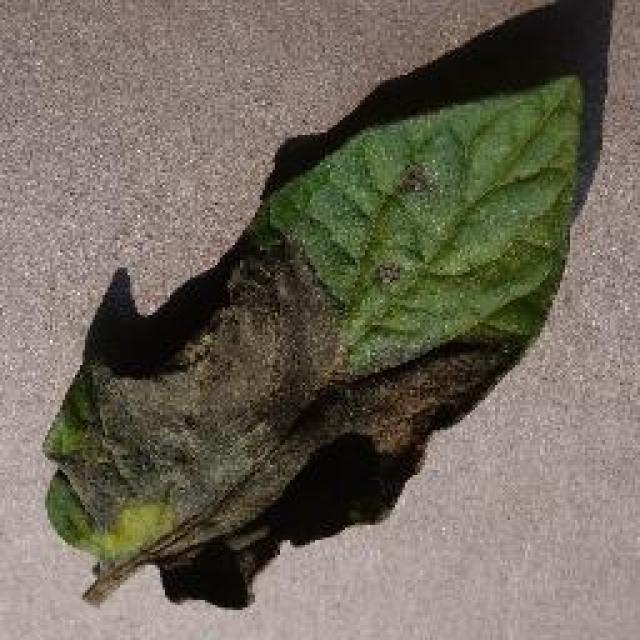Tomato Late Blight: (90, 132, 448, 540)
